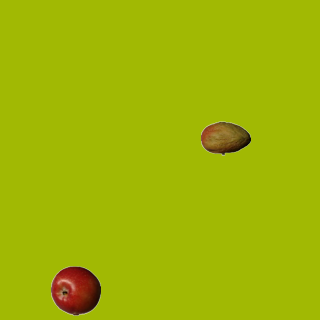Apple Braeburn: (50, 265, 100, 315)
Papaya: (200, 113, 250, 163)
